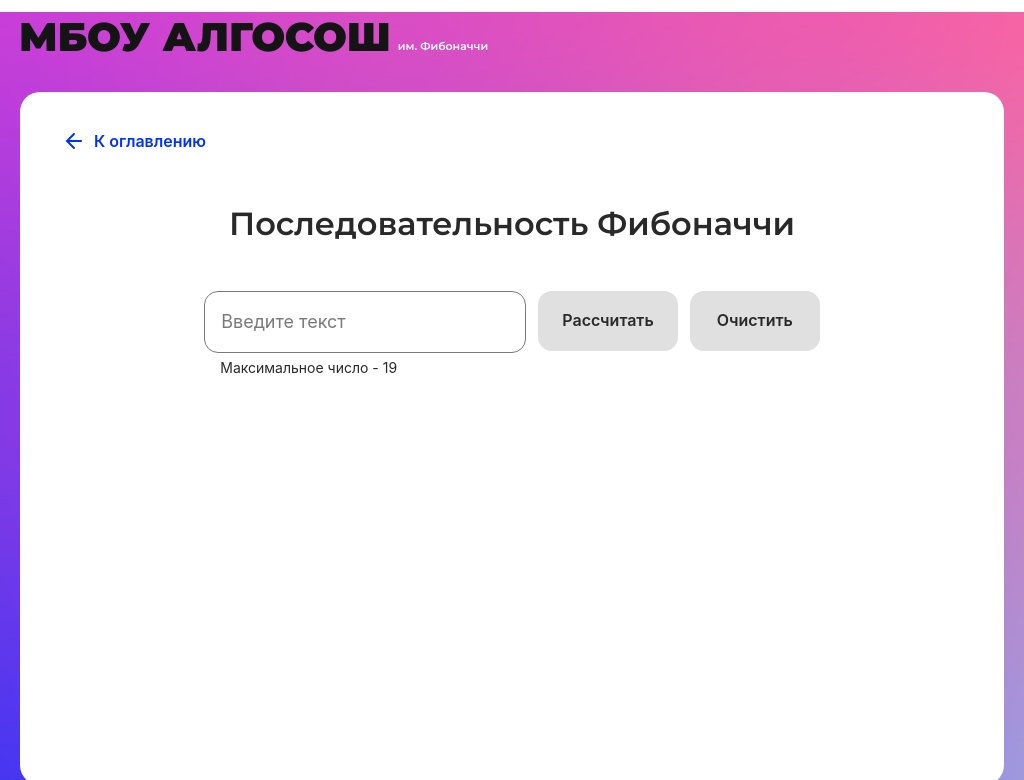
Test: fibonacci tests › the numbers are generated correctly
The width and height of the screenshot is (1024, 780).
Type "2" into the number field with test id "fibonacci-input" at [365, 322], box [204, 291, 526, 353]
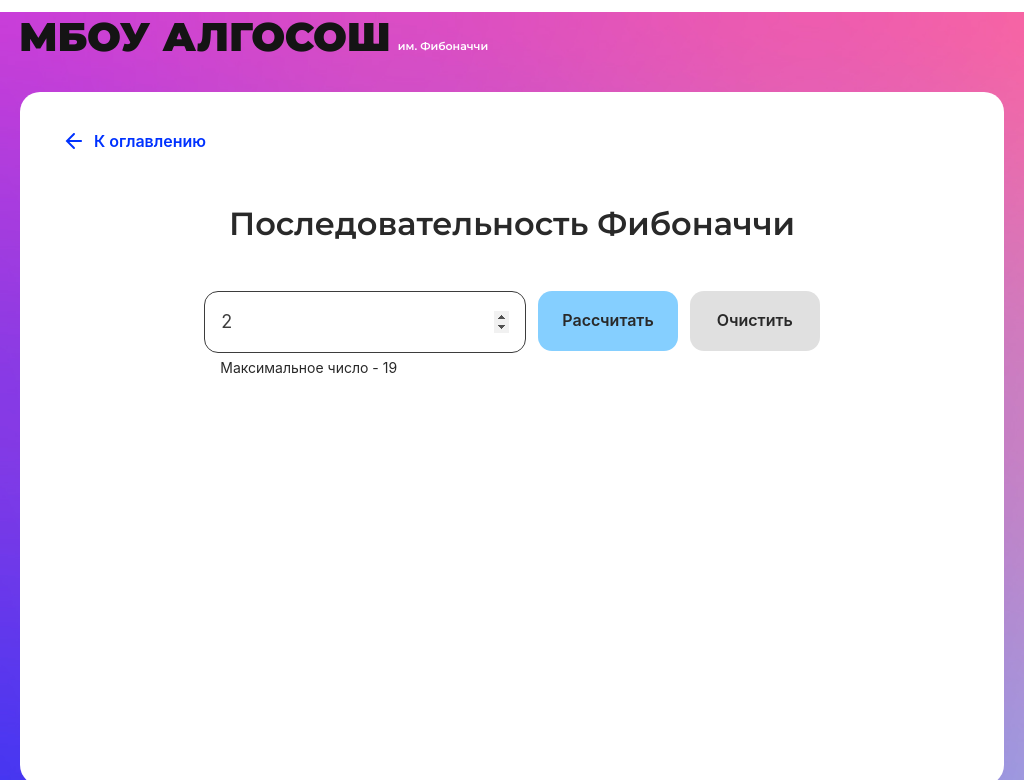
Expected: the element with test id "fibonacci-submit-btn" is enabled
Click the button with test id "fibonacci-submit-btn" at [608, 321], box [538, 291, 677, 351]
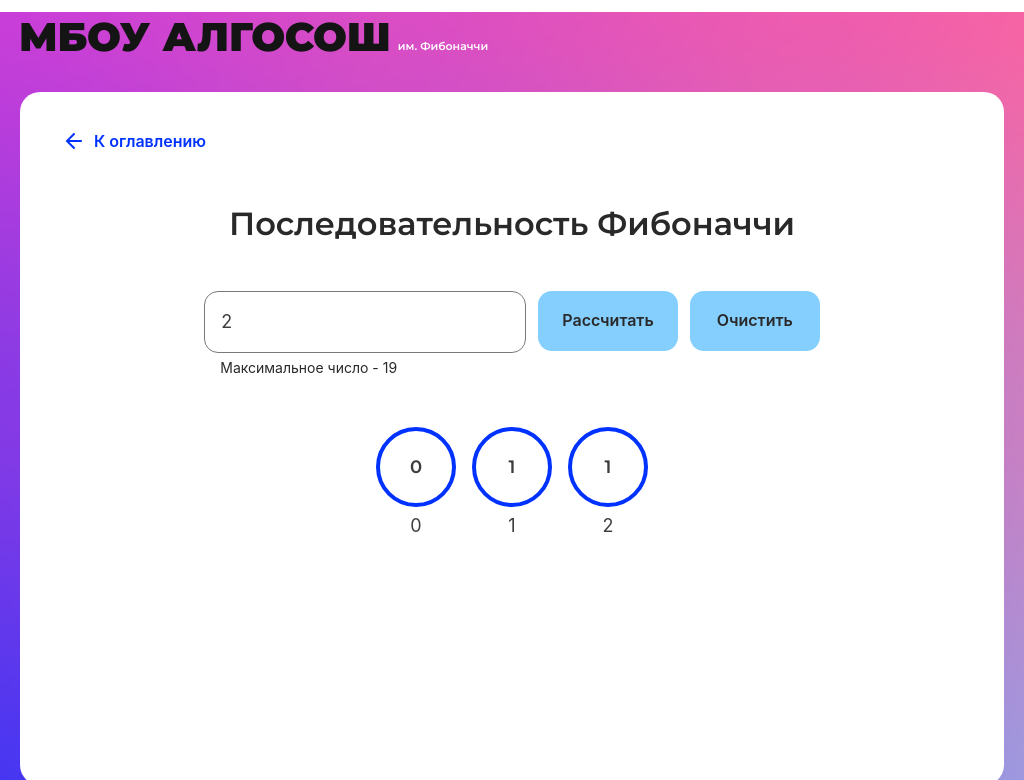
Now the element with test id "circle" reads "0", box [376, 427, 456, 507]
Now the 1st element with test id "circle" reads "1", box [472, 427, 552, 507]
Now the 2nd element with test id "circle" reads "1", box [568, 427, 648, 507]
